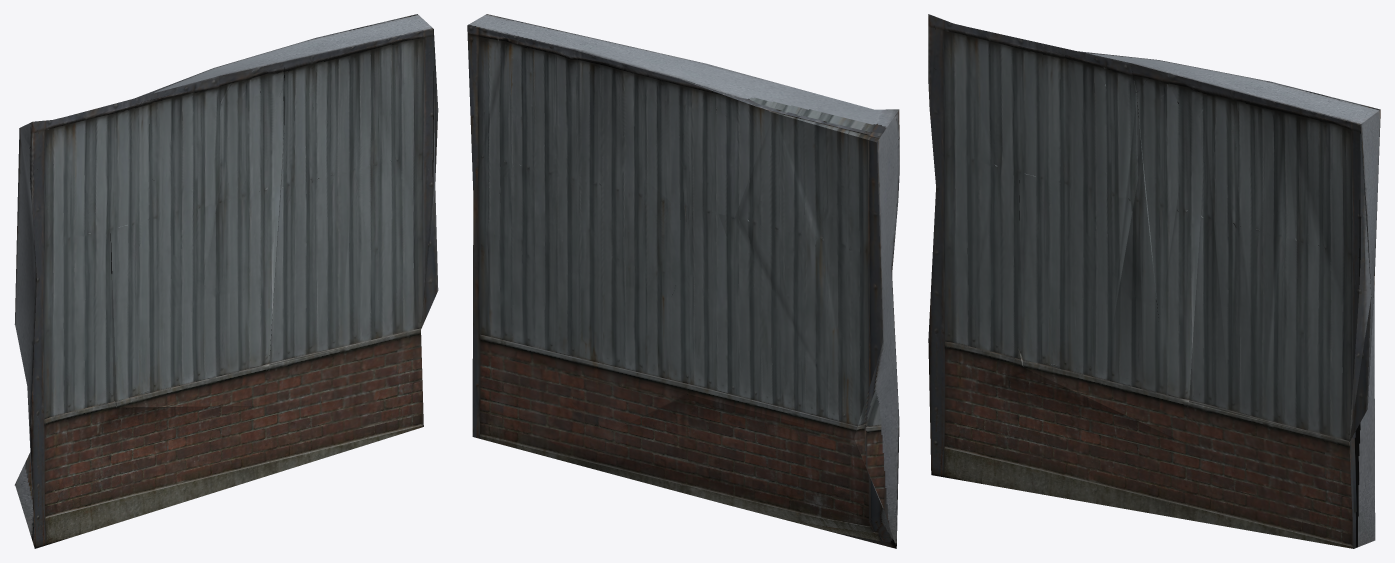
Rendered from wall-assembly.glb.
The picture shows the model from 3 angles, left to right: view 1: azimuth 30°, elevation 25°; view 2: azimuth 150°, elevation 25°; view 3: azimuth 330°, elevation 25°; orthographic projection. The views are drawn at different scales.
Parts seen in each view (by area): view 1: wall-assembly; view 2: wall-assembly; view 3: wall-assembly.
Part boxes in pixels (x1,y1,x2,y2): wall-assembly: [14, 14, 438, 548]; wall-assembly: [467, 14, 899, 548]; wall-assembly: [928, 14, 1380, 548].
Size of the model in its own units: 4 by 4 by 0.3.
Materials: 1 (1 with a texture image).
